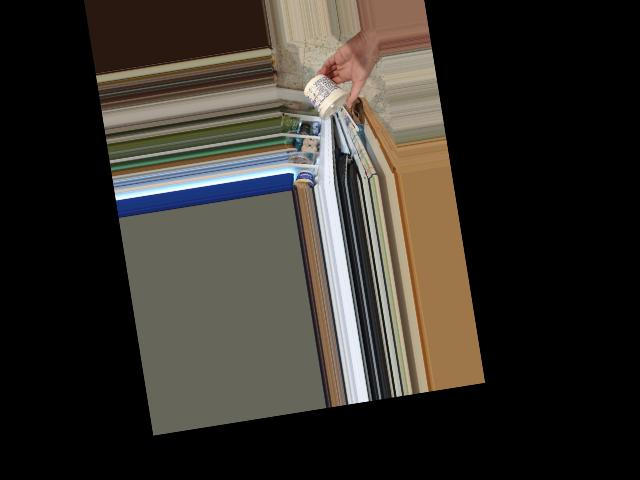cotage: (306, 68, 353, 124)
